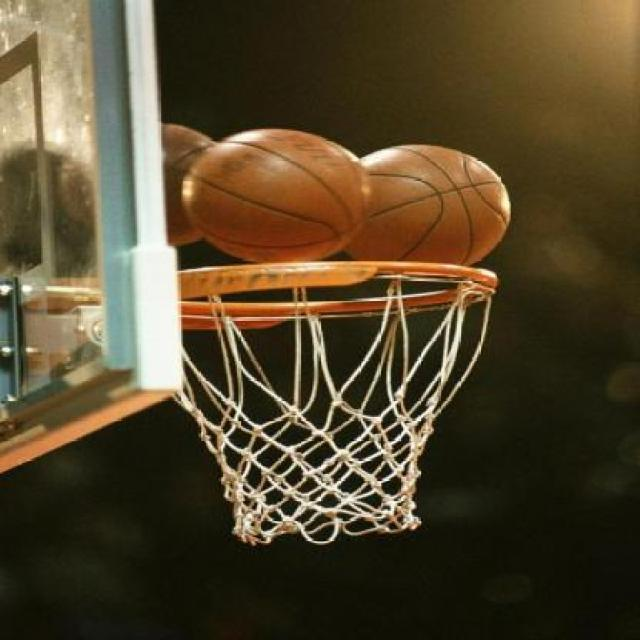basketball: (186, 128, 370, 266), (343, 143, 512, 289)
rim: (178, 260, 494, 552)
